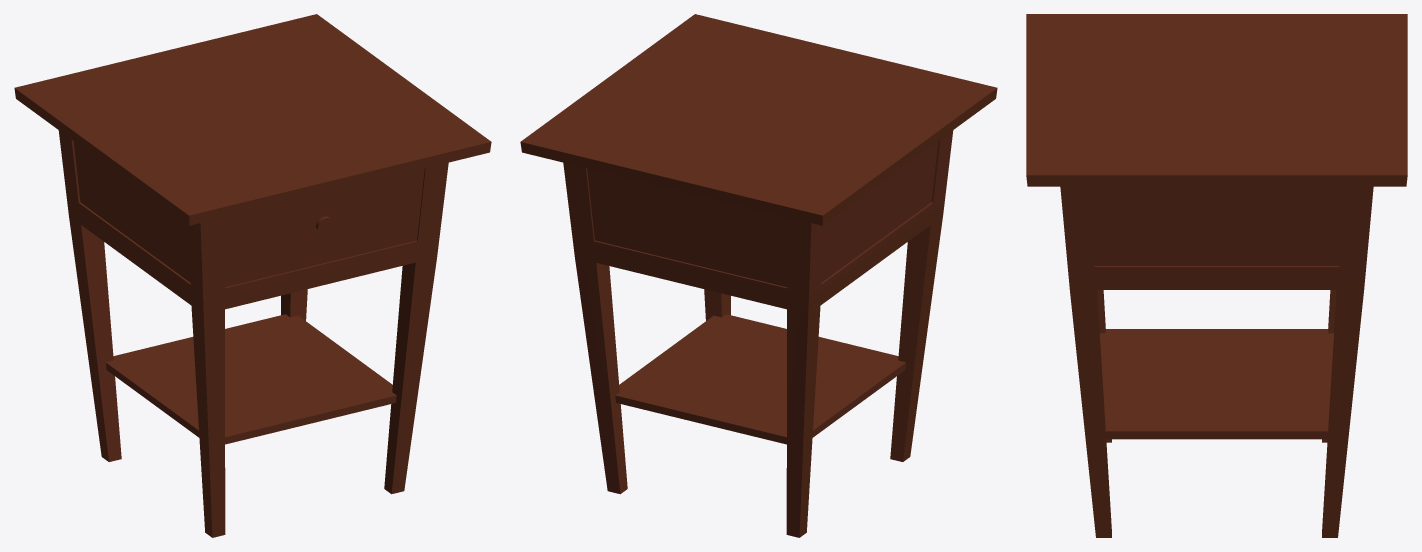
The model's file is nightstand_high.fbx.
3 views of the same model, side by side, from view 1: azimuth 30°, elevation 25°; view 2: azimuth 150°, elevation 25°; view 3: azimuth 270°, elevation 25° (orthographic). The views are drawn at different scales.
Visible parts, largest first — view 1: nightstand_opt:NightStand, nightstand_opt:Drawer; view 2: nightstand_opt:NightStand; view 3: nightstand_opt:NightStand.
Part boxes in pixels (x1=…): nightstand_opt:NightStand: x1=14, y1=14, x2=491, y2=537; nightstand_opt:Drawer: x1=223, y1=168, x2=424, y2=287; nightstand_opt:NightStand: x1=520, y1=14, x2=997, y2=537; nightstand_opt:NightStand: x1=1026, y1=14, x2=1407, y2=537.
Size of the model in its own units: 46.09 by 52.29 by 46.09.
